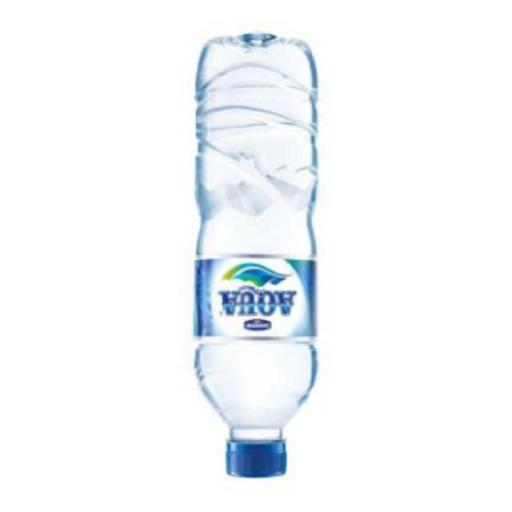Coca: (186, 26, 330, 497)
